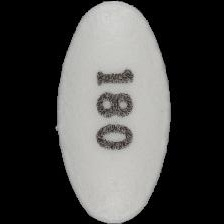50268-636: (0, 0, 224, 224)
